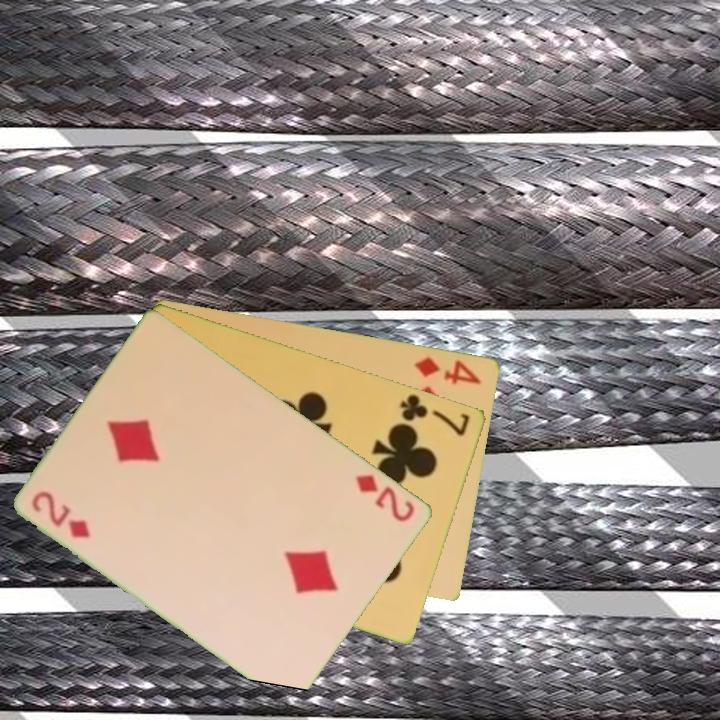2d: (352, 470, 419, 525), (28, 487, 94, 541)
4d: (411, 353, 484, 387)
7c: (397, 390, 473, 439)
